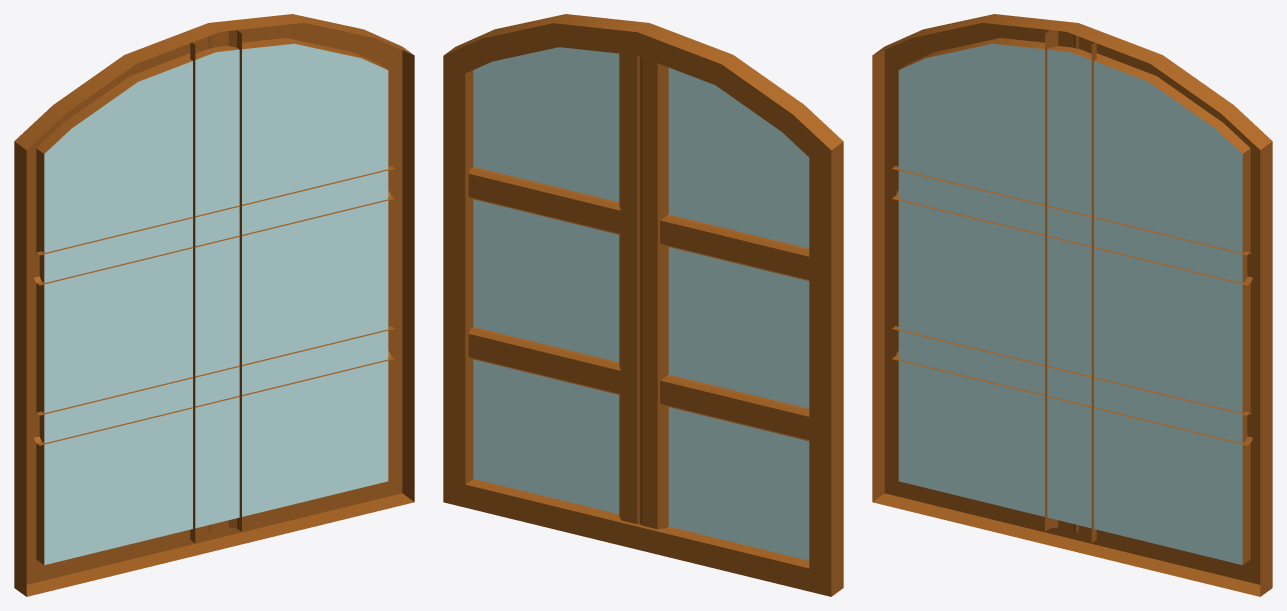
Rendered from Larry_Map_Deco_Window.fbx.
3 renders of one model, left to right at view 1: azimuth 30°, elevation 25°; view 2: azimuth 150°, elevation 25°; view 3: azimuth 330°, elevation 25°, orthographic.
Visible parts, largest first — view 1: Deco_Window; view 2: Deco_Window; view 3: Deco_Window.
Part boxes in pixels (x1,y1,x2,y2): Deco_Window: (14, 14, 414, 596); Deco_Window: (443, 14, 843, 596); Deco_Window: (872, 14, 1272, 596).
Bounding box in the file's own units: 70 × 89.25 × 3.84.
